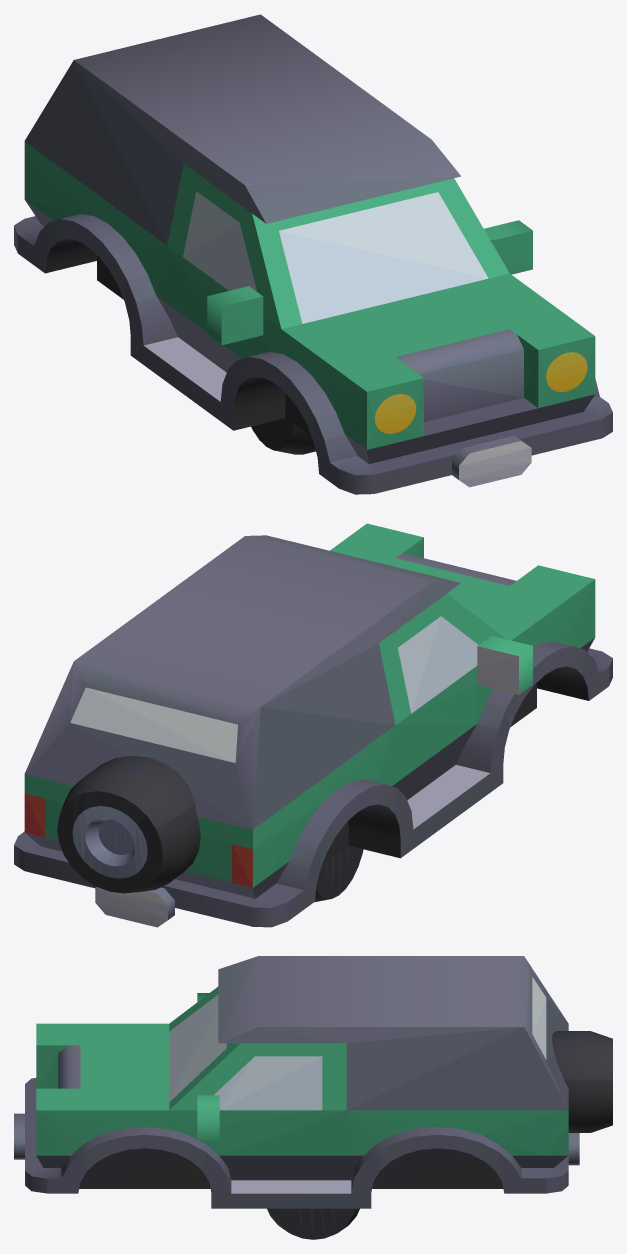
File: suv.glb
3 renders of one model, top to bottom at view 1: azimuth 30°, elevation 25°; view 2: azimuth 150°, elevation 25°; view 3: azimuth 270°, elevation 25°, orthographic. The views are drawn at different scales.
Visible parts, largest first — view 1: trim, body_paint, wheel_right; view 2: trim, body_paint, wheel_right; view 3: trim, body_paint, wheel_left.
Boxes of the visible parts, bbox=[...] form: trim: bbox=[14, 14, 612, 494]; body_paint: bbox=[24, 141, 595, 449]; wheel_right: bbox=[251, 418, 313, 454]; trim: bbox=[14, 535, 612, 927]; body_paint: bbox=[24, 523, 595, 887]; wheel_right: bbox=[314, 846, 363, 902]; trim: bbox=[14, 956, 612, 1208]; body_paint: bbox=[36, 986, 568, 1155]; wheel_left: bbox=[267, 1208, 359, 1239].
Bounding box in the file's own units: 2.1 × 2 × 4.5.
